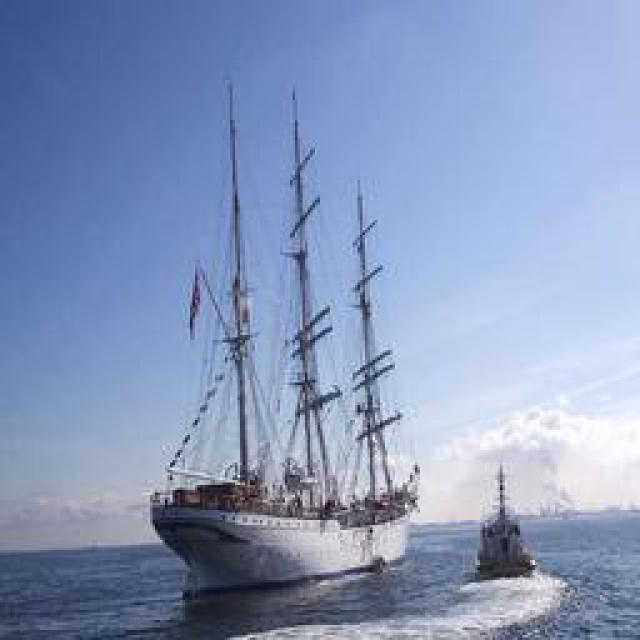Ship: (151, 45, 424, 595)
